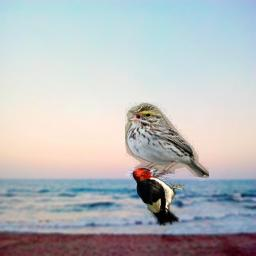Sparrow: (125, 101, 209, 181)
Woodpecker: (131, 167, 185, 226)
